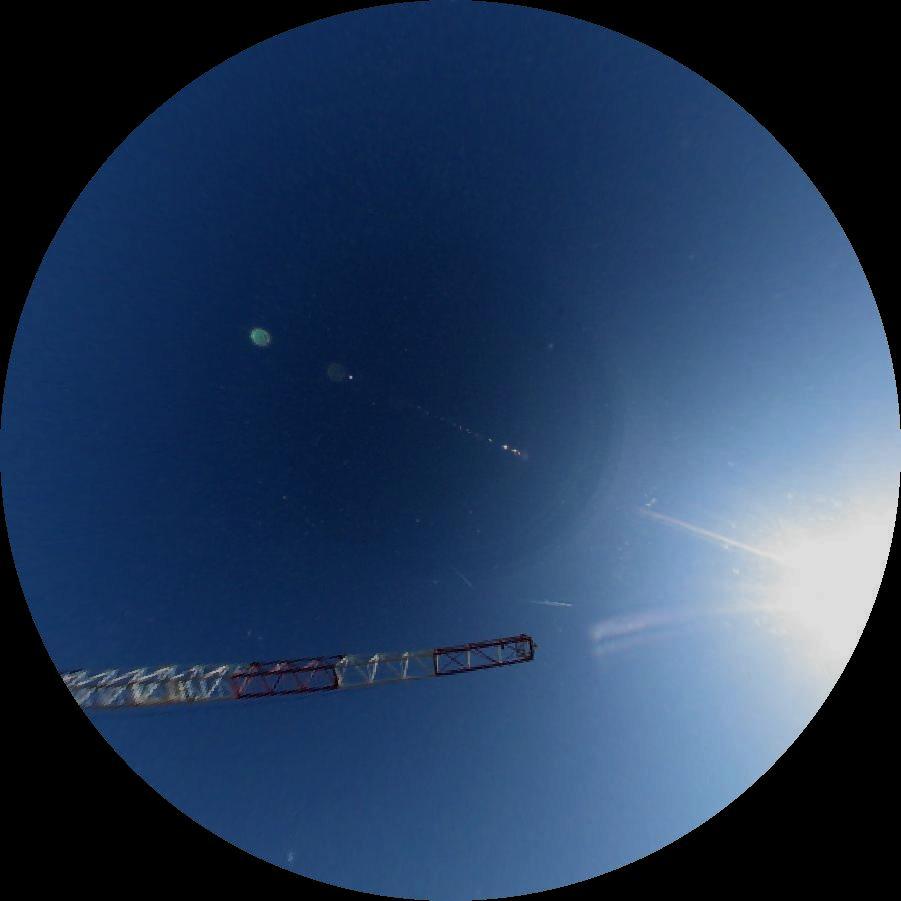contrail young: (450, 563, 473, 589), (527, 600, 575, 607)
parasite: (588, 593, 764, 640), (644, 505, 780, 563)
sun: (749, 487, 897, 665)
